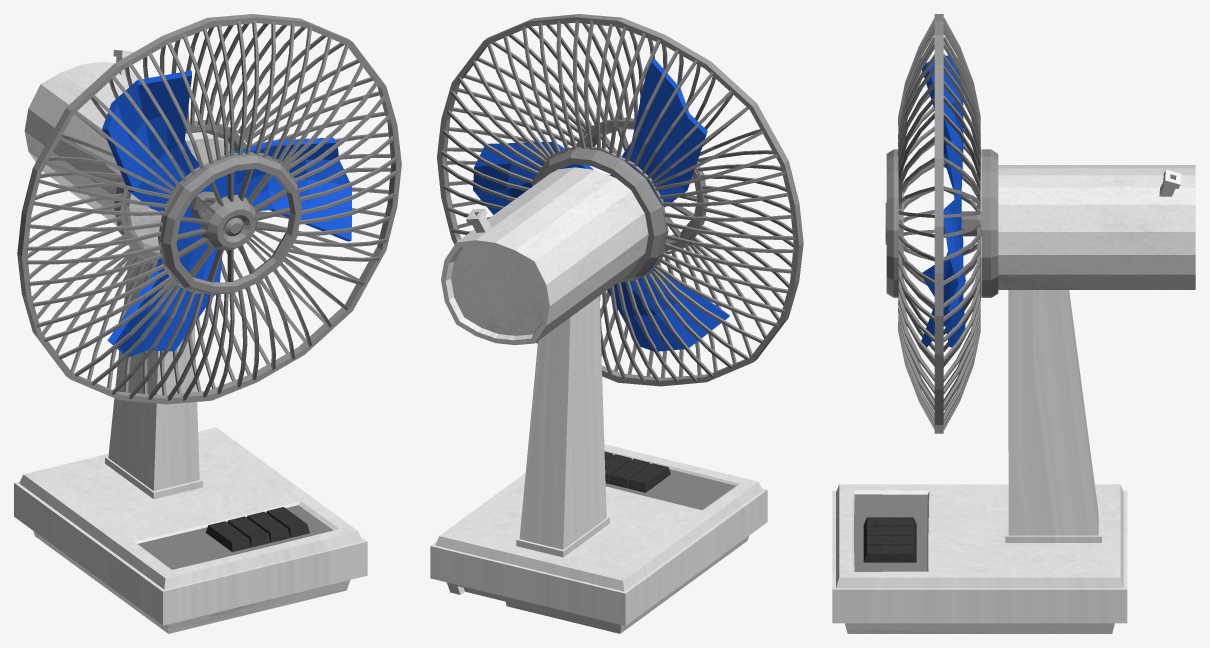
The model's file is ElectricFan.fbx.
3 views of the same model, side by side, from view 1: azimuth 30°, elevation 25°; view 2: azimuth 150°, elevation 25°; view 3: azimuth 270°, elevation 25° (orthographic). The views are drawn at different scales.
Visible parts, largest first — view 1: Cube.003, Cube.006, Cube.002, Cube.005, Cube.001, Cube.007, Cube.008, Cube.010; view 2: Cube.003, Cube.006, Cube.001, Cube.002, Cube.005, Cube.007, Cube.010; view 3: Cube.003, Cube.001, Cube.006, Cube.007, Cube.002, Cube.005, Cube.010.
Boxes of the visible parts, x1,y1,x2,y2 form: Cube.003: (14, 247, 367, 633); Cube.006: (26, 21, 397, 400); Cube.002: (102, 70, 351, 356); Cube.005: (17, 14, 401, 404); Cube.001: (24, 50, 234, 246); Cube.007: (114, 120, 301, 294); Cube.008: (177, 169, 290, 282); Cube.010: (205, 507, 309, 551); Cube.003: (430, 296, 767, 633); Cube.006: (441, 20, 794, 383); Cube.001: (441, 167, 648, 344); Cube.002: (473, 59, 729, 351); Cube.005: (437, 14, 803, 386); Cube.007: (532, 117, 708, 283); Cube.010: (604, 451, 670, 492); Cube.003: (832, 290, 1127, 633); Cube.001: (998, 165, 1195, 289); Cube.006: (898, 18, 980, 429); Cube.007: (885, 149, 998, 297); Cube.002: (921, 55, 965, 347); Cube.005: (899, 14, 980, 433); Cube.010: (863, 517, 916, 562).
Size of the model in its own units: 102 by 143 by 85.04.
9 materials, 2 textured.
